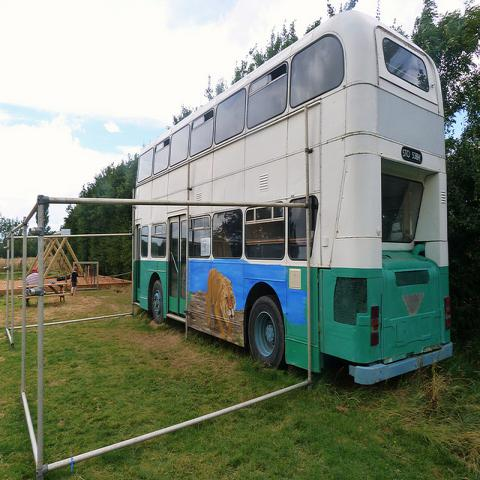bus: (131, 11, 456, 386)
